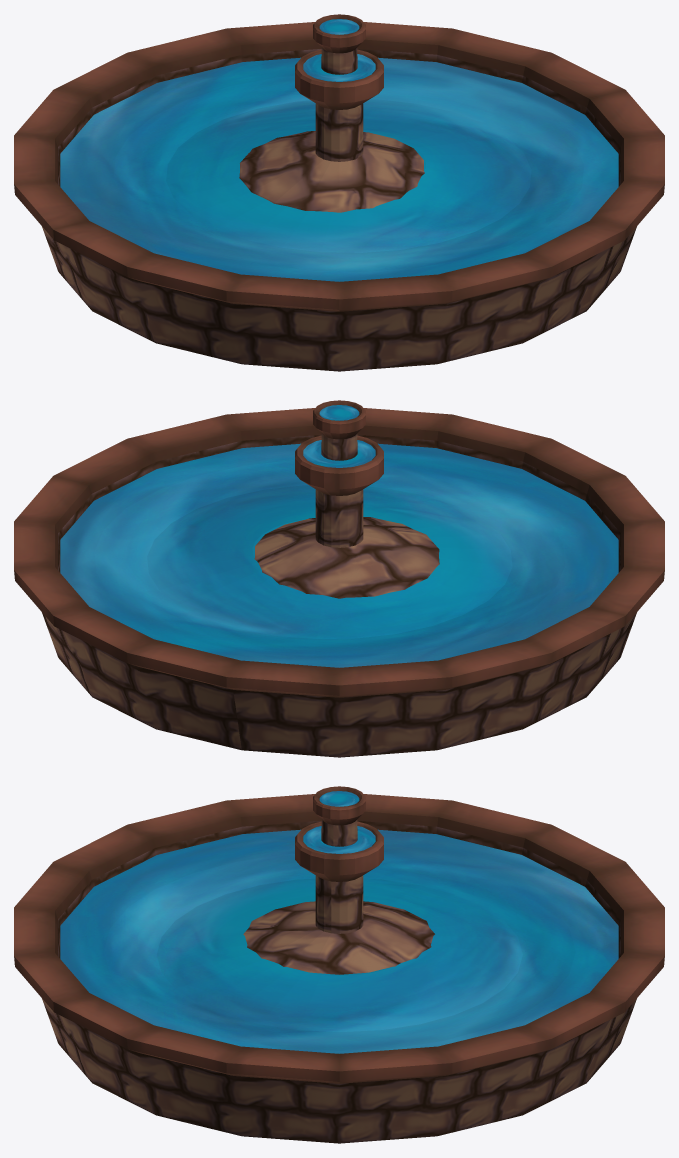
The model's file is Fontijd.FBX.
The picture shows the model from 3 angles, top to bottom: view 1: azimuth 30°, elevation 25°; view 2: azimuth 150°, elevation 25°; view 3: azimuth 270°, elevation 25°; orthographic projection.
Parts seen in each view (by area): view 1: Fontijn, Water_groot, Water_mid; view 2: Fontijn, Water_groot, Water_mid; view 3: Fontijn, Water_groot, Water_mid.
Boxes of the visible parts, x1,y1,x2,y2 form: Fontijn: (14,14,664,371); Water_groot: (60,57,618,281); Water_mid: (303,54,375,81); Fontijn: (14,400,664,757); Water_groot: (60,443,618,667); Water_mid: (303,440,375,467); Fontijn: (14,786,664,1143); Water_groot: (60,829,618,1053); Water_mid: (303,826,375,853).
Size of the model in its own units: 383 by 144 by 377.
Materials: 2 (2 with a texture image).
